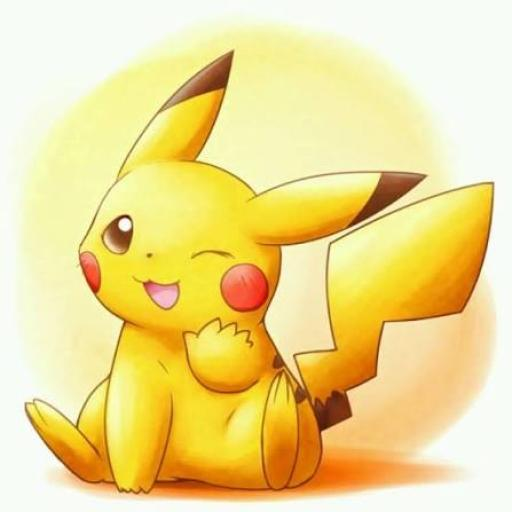Pikachu: (22, 46, 493, 495)
